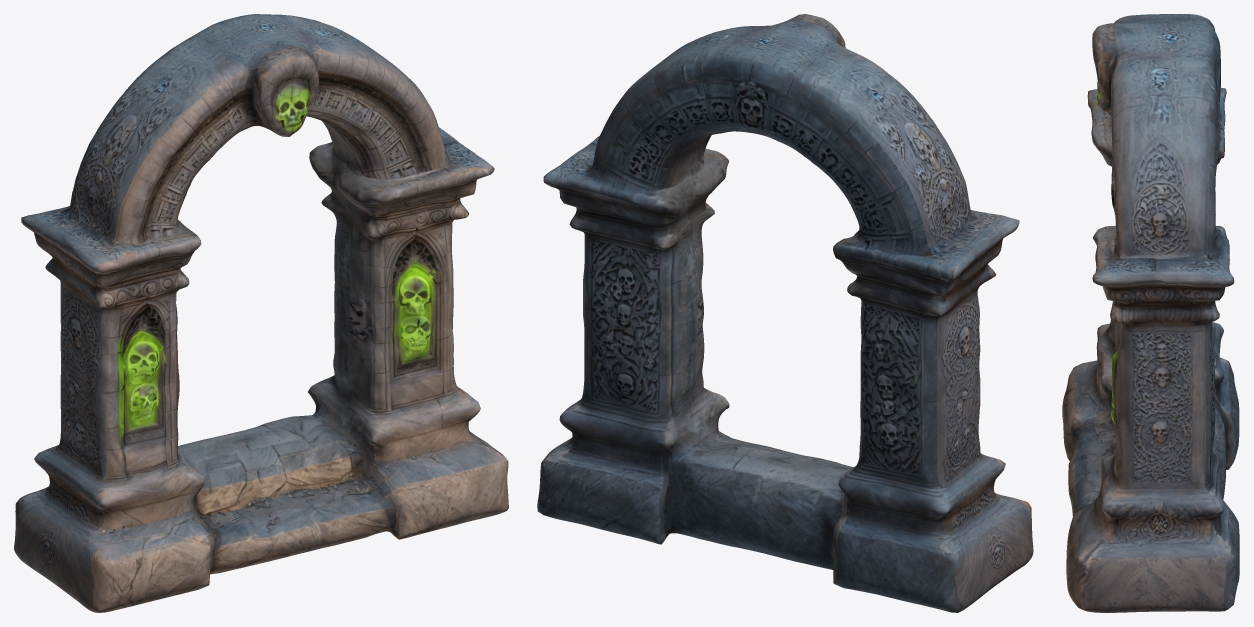
3 renders of one model, left to right at view 1: azimuth 30°, elevation 25°; view 2: azimuth 150°, elevation 25°; view 3: azimuth 270°, elevation 25°, orthographic. The views are drawn at different scales.
Parts seen in each view (by area): view 1: Mesh_0; view 2: Mesh_0; view 3: Mesh_0.
Boxes of the visible parts, left/top/right/bottom form: Mesh_0: left=14, top=14, right=508, bottom=612; Mesh_0: left=537, top=14, right=1033, bottom=612; Mesh_0: left=1062, top=14, right=1239, bottom=612.
Size of the model in its own units: 106 by 120 by 39.39.
Materials: 1 (1 with a texture image).
